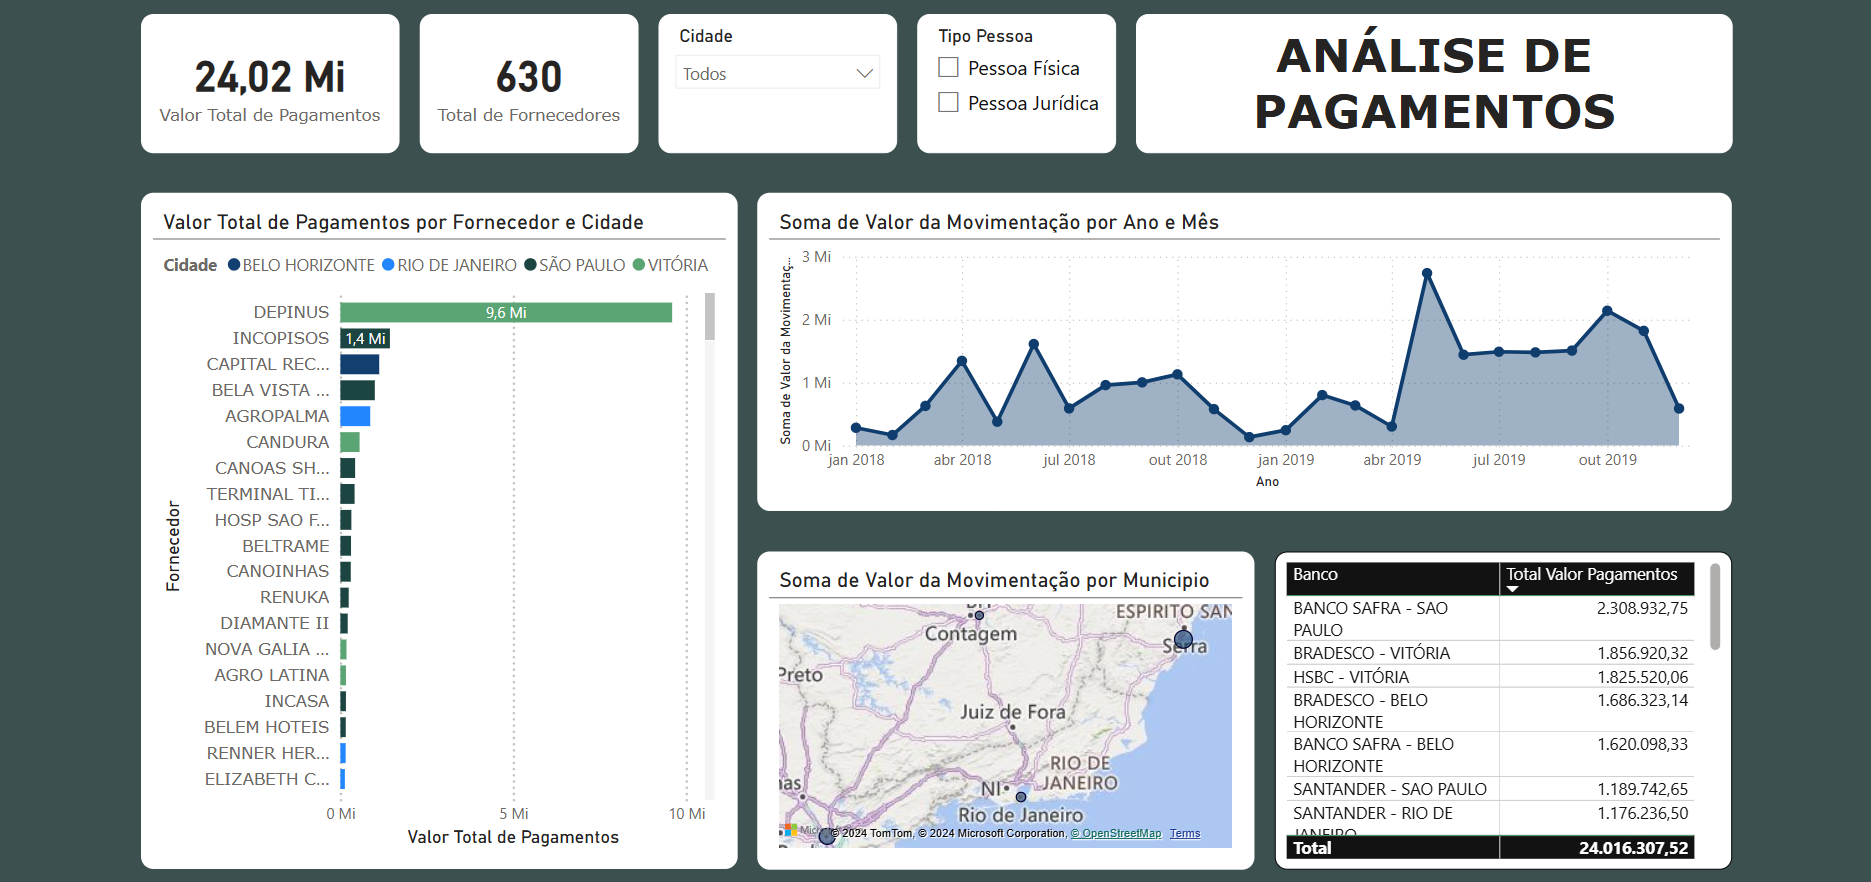

What the dashboard file says about the page in this screenshot:
{"tool":"powerbi","page":{"name":"Fornecedores","canvas":[1280,720],"ordinal":1},"visuals":[{"type":"card","fields":{"Values":["Pagamentos.Valor da Movimentação"]},"box":[0,16,208,112],"z":0},{"type":"card","fields":{"Values":["Fornecedor.Id Fornecedor"]},"box":[224,16,176,112],"z":1000},{"type":"textbox","box":[800,16,480,112],"z":2000},{"type":"barChart","fields":{"Y":["Pagamentos.Valor da Movimentação"],"Category":["Fornecedor.Razao Social"],"Series":["Fornecedor.Municipio"]},"box":[0,160,480,544],"z":3000},{"type":"areaChart","fields":{"Y":["Pagamentos.Valor da Movimentação"],"Category":["Pagamentos.Data da Movimentação.Variation.Hierarquia de datas.Ano","Pagamentos.Data da Movimentação.Variation.Hierarquia de datas.Mês"]},"box":[496,160,784,256],"z":4000},{"type":"map","fields":{"Size":["Pagamentos.Valor da Movimentação"],"Category":["Fornecedor.Municipio"]},"box":[496,448,400,256],"z":5000},{"type":"slicer","fields":{"Values":["Cliente.Cidade"]},"box":[416,16,192,112],"z":6000},{"type":"slicer","fields":{"Values":["Fornecedor.Tipo Pessoa"]},"box":[624,16,160,112],"z":7000},{"type":"tableEx","fields":{"Values":["Banco.Nome Banco","Pagamentos.Valor da Movimentação"]},"box":[912,448,368,256],"z":8000}]}

Visuals, with their boxes on the page's 1280x720 design canvas (x1, y1, x2, y2). These are canvas units, not pixel positions in the 1871x882 screenshot, which may show the page scaled, cropped or inside an application window:
card - Pagamentos.Valor da Movimentação: bbox=(0, 16, 208, 128)
card - Fornecedor.Id Fornecedor: bbox=(224, 16, 400, 128)
textbox: bbox=(800, 16, 1280, 128)
barChart - Pagamentos.Valor da Movimentação x Fornecedor.Razao Social: bbox=(0, 160, 480, 704)
areaChart - Pagamentos.Valor da Movimentação x Pagamentos.Data da Movimentação.Variation.Hierarquia de datas.Ano: bbox=(496, 160, 1280, 416)
map - Pagamentos.Valor da Movimentação x Fornecedor.Municipio: bbox=(496, 448, 896, 704)
slicer - Cliente.Cidade: bbox=(416, 16, 608, 128)
slicer - Fornecedor.Tipo Pessoa: bbox=(624, 16, 784, 128)
tableEx - Banco.Nome Banco x Pagamentos.Valor da Movimentação: bbox=(912, 448, 1280, 704)
